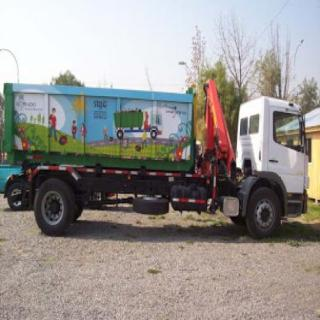Normal_vehicle: (2, 73, 314, 255)
